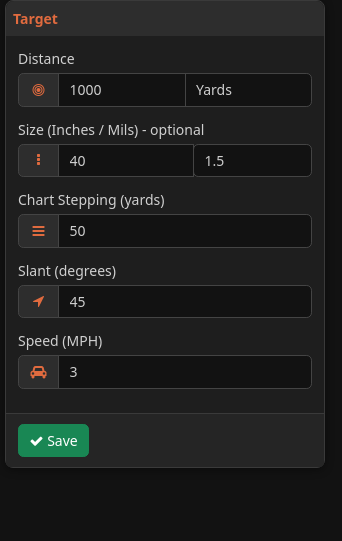
Test: displays validation error for chartStepping when value is below min
Replace the text in the number field named "chartStepping" with "0" at point(185, 231), box [58,214,312,248]
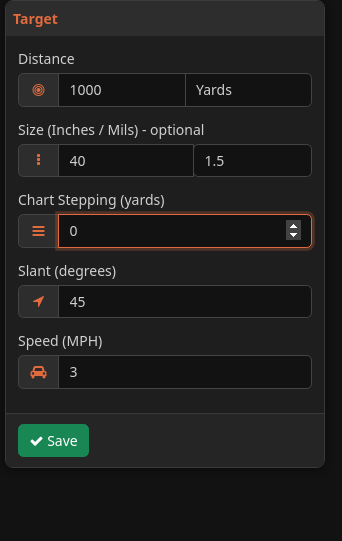
Press Tab
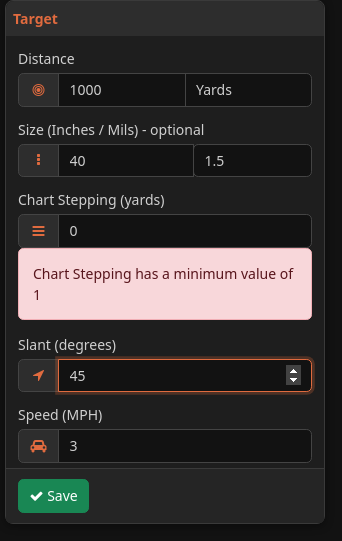
Expected: the text "Chart Stepping has a minimum value of 1" is shown, [18,248,312,320]
